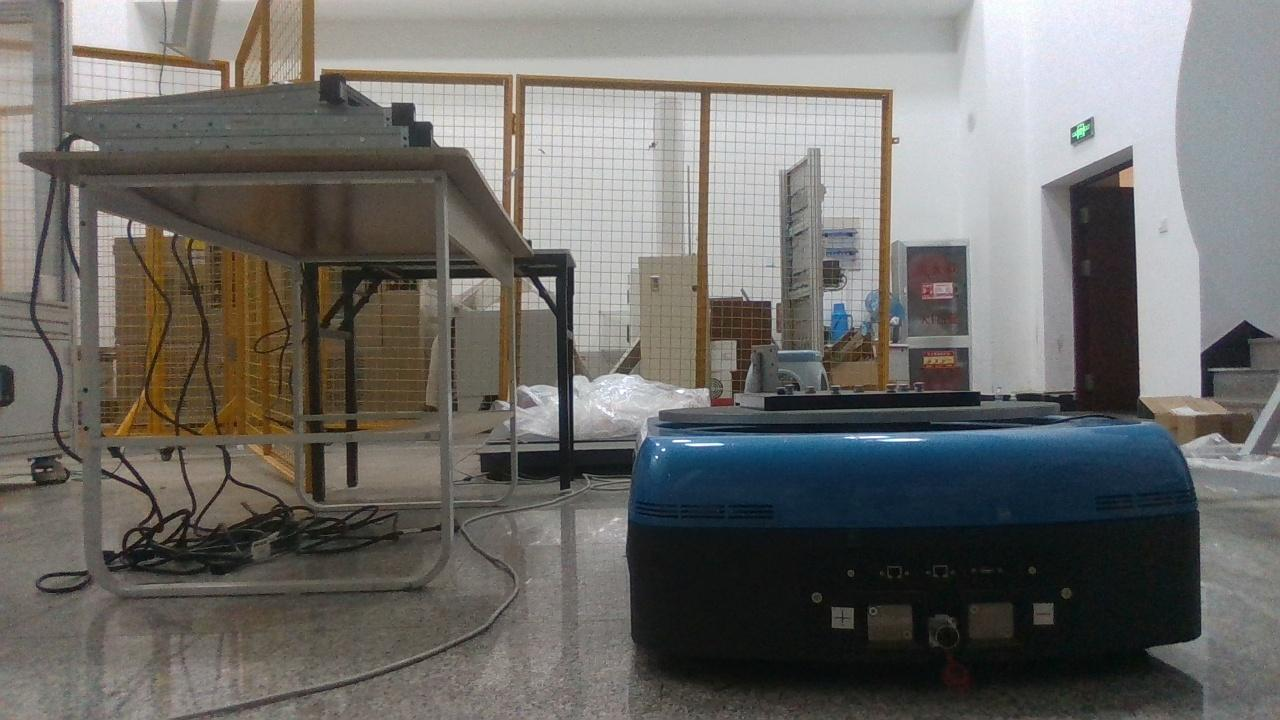AGV: (626, 391, 1202, 691)
